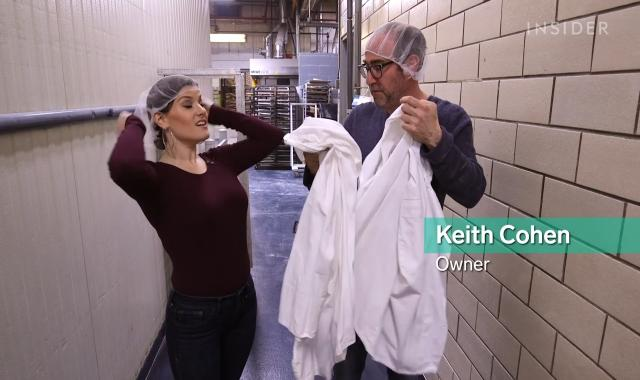hairnet: (362, 24, 432, 80), (142, 74, 202, 114)
